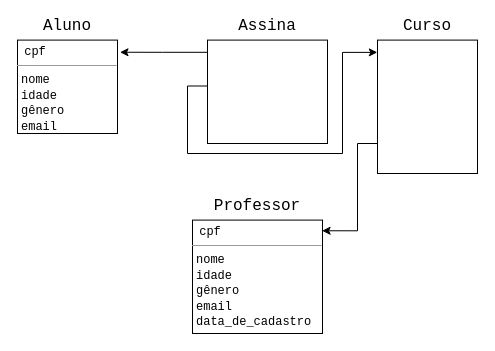
Some shapes in this 495 by 351 pixel diagram are drawn without their labels. Here are the shapes that lost their labels. From the top down, the centre of each, then its label:
At (267,91): "cpf_aluno código_curso data_assinatura certificado ultimo_acesso".
At (427,106): "código título duração categoria avaliação idioma cpf_professor".
